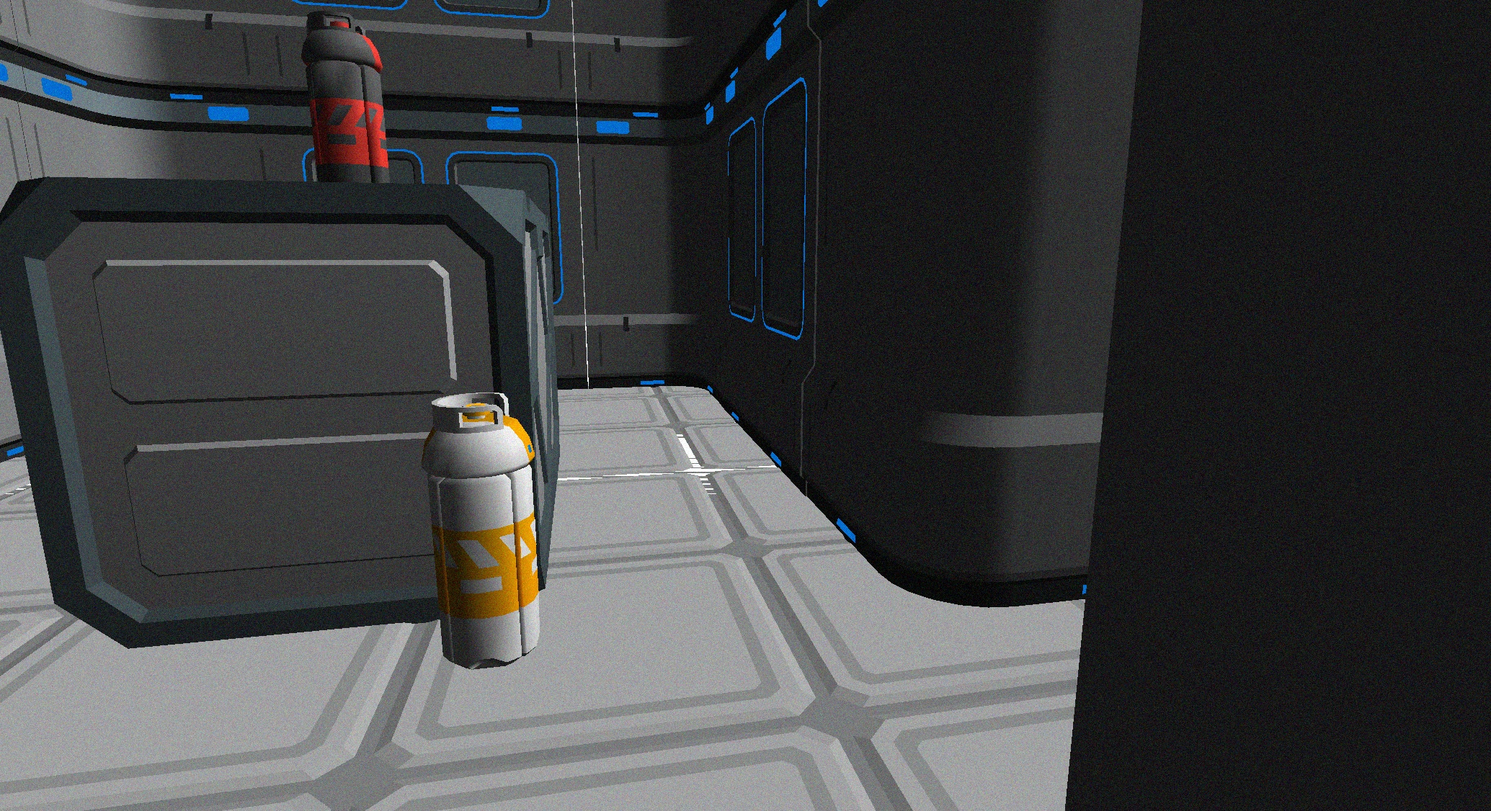red_barrel: (302, 12, 388, 182)
yellow_barrel: (422, 393, 538, 667)
